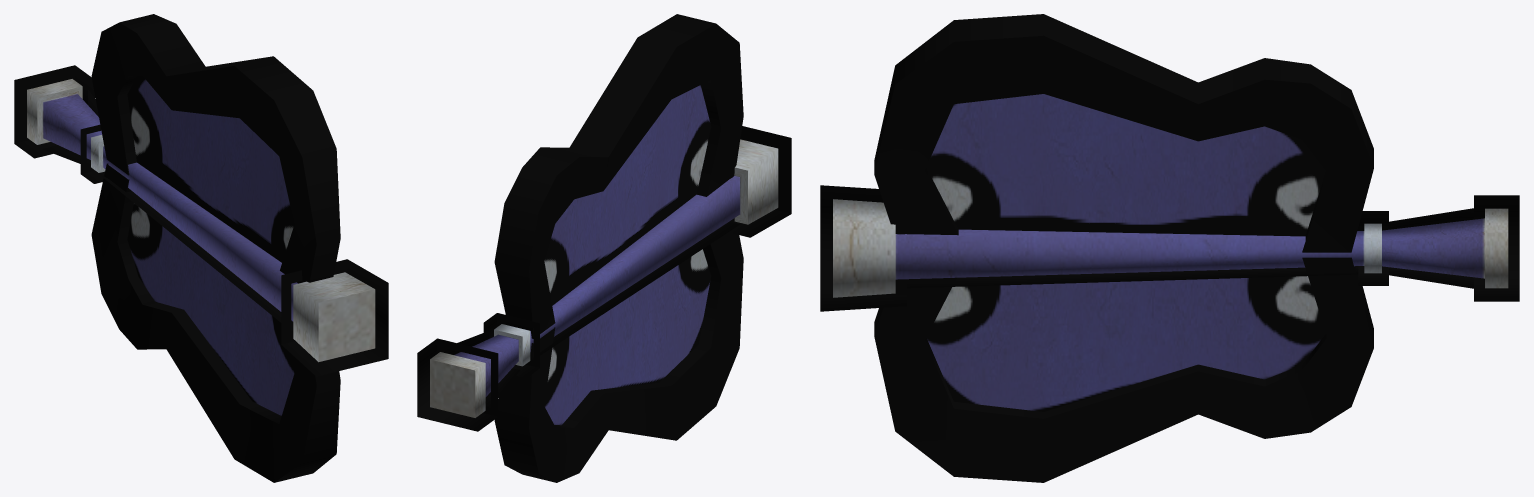
The model's file is fanModel.fbx.
3 views of the same model, side by side, from view 1: azimuth 30°, elevation 25°; view 2: azimuth 150°, elevation 25°; view 3: azimuth 270°, elevation 25° (orthographic). The views are drawn at different scales.
Parts seen in each view (by area): view 1: shadow, fan; view 2: shadow, fan; view 3: fan, shadow.
Boxes of the visible parts, x1,y1,x2,y2 form: shadow: (14,14,388,482); fan: (27,75,375,415); shadow: (417,14,791,482); fan: (430,85,778,425); fan: (833,94,1508,411); shadow: (820,14,1519,482).
Size of the model in its own units: 40 by 207 by 294.
